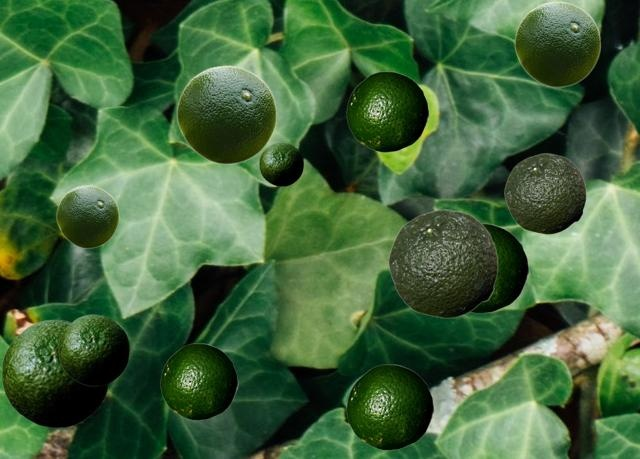calamansi: (388, 209, 497, 317), (1, 319, 108, 427), (176, 65, 276, 163), (346, 364, 433, 449), (514, 1, 600, 86), (346, 71, 428, 151), (504, 153, 585, 233), (160, 343, 237, 419), (471, 223, 528, 312), (58, 314, 128, 385), (56, 185, 118, 247), (259, 142, 302, 185)
